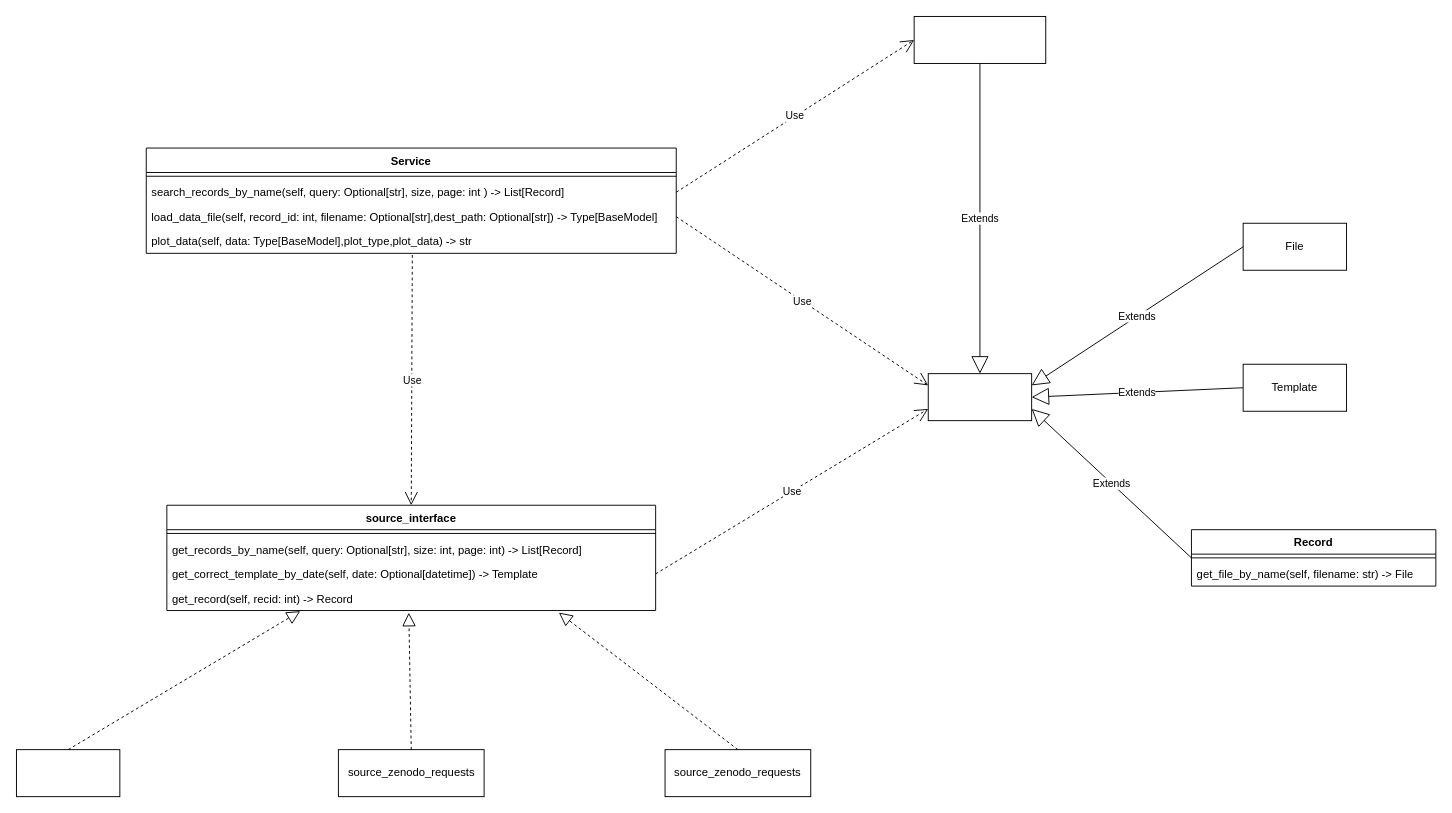
Image size: 1452x813. Some labels were removed from this diagram. The centre of each missing label's shape, as x and y in pixels:
"BaseModel" belongs at (x=979, y=397).
"DynamicConversor" belongs at (x=979, y=39).
"source_file" belongs at (x=68, y=773).
